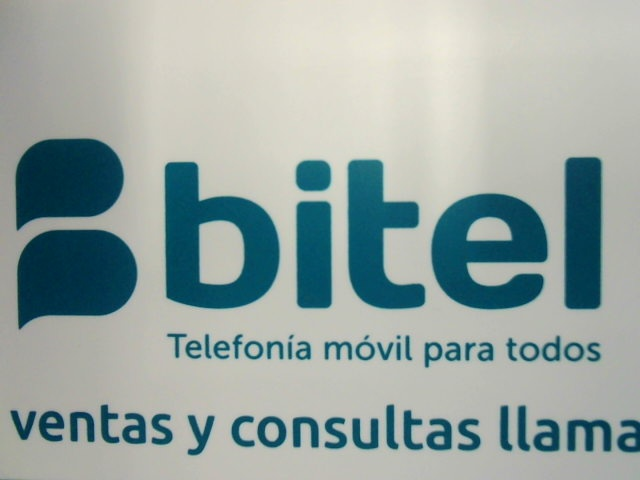BE_bitel: (12, 137, 620, 331)
